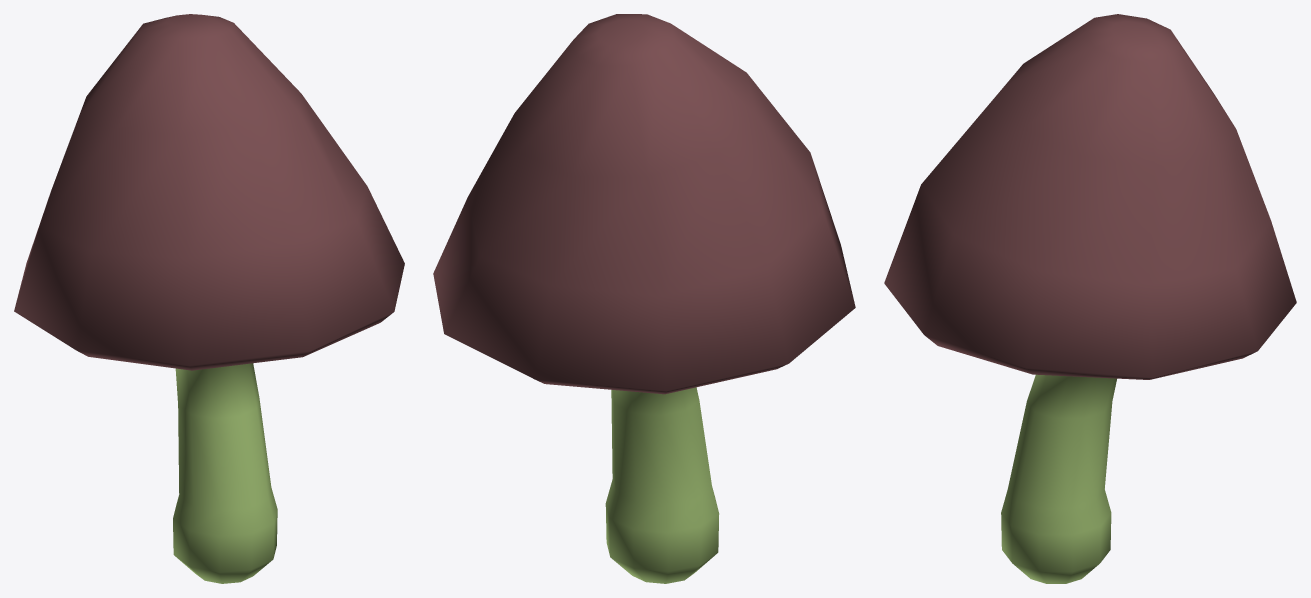
The model's file is mushroom2.fbx.
3 views of the same model, side by side, from view 1: azimuth 30°, elevation 25°; view 2: azimuth 150°, elevation 25°; view 3: azimuth 270°, elevation 25° (orthographic). The views are drawn at different scales.
Visible parts, largest first — view 1: Cylinder; view 2: Cylinder; view 3: Cylinder.
Part boxes in pixels (x1,y1,x2,y2): Cylinder: [14, 14, 404, 583]; Cylinder: [433, 14, 855, 583]; Cylinder: [884, 14, 1296, 583].
Bounding box in the file's own units: 807 × 1234 × 851.
